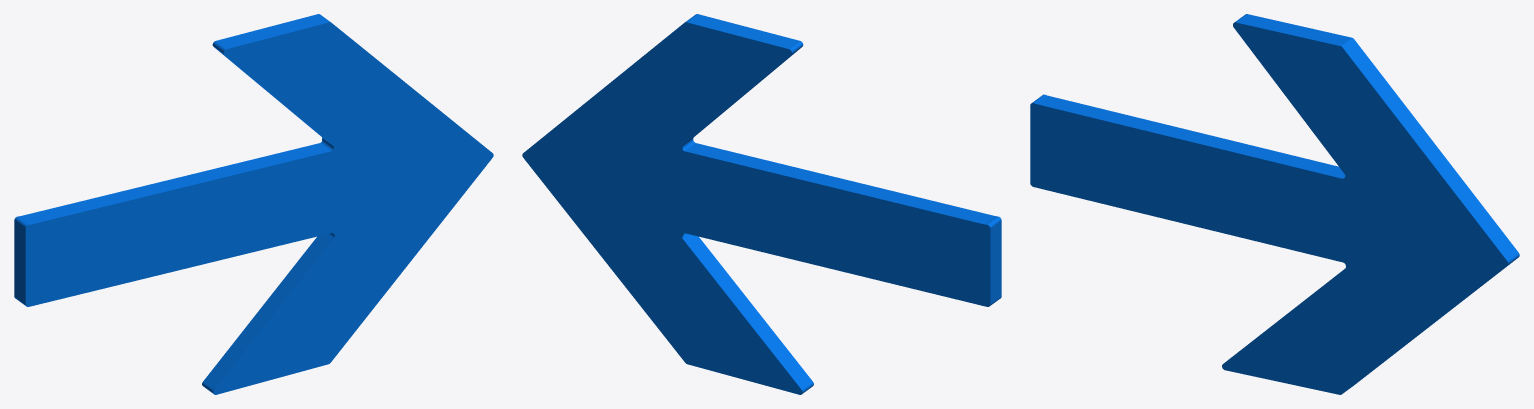
Rendered from noun_Arrow_3134191.fbx.
The picture shows the model from 3 angles, left to right: view 1: azimuth 30°, elevation 25°; view 2: azimuth 150°, elevation 25°; view 3: azimuth 330°, elevation 25°; orthographic projection. The views are drawn at different scales.
Parts seen in each view (by area): view 1: 挤压_1; view 2: 挤压_1; view 3: 挤压_1.
Part boxes in pixels (x1,y1,x2,y2): 挤压_1: (14,14,493,394); 挤压_1: (522,14,1001,394); 挤压_1: (1030,14,1519,394).
Bounding box in the file's own units: 120 × 84.2 × 5.
